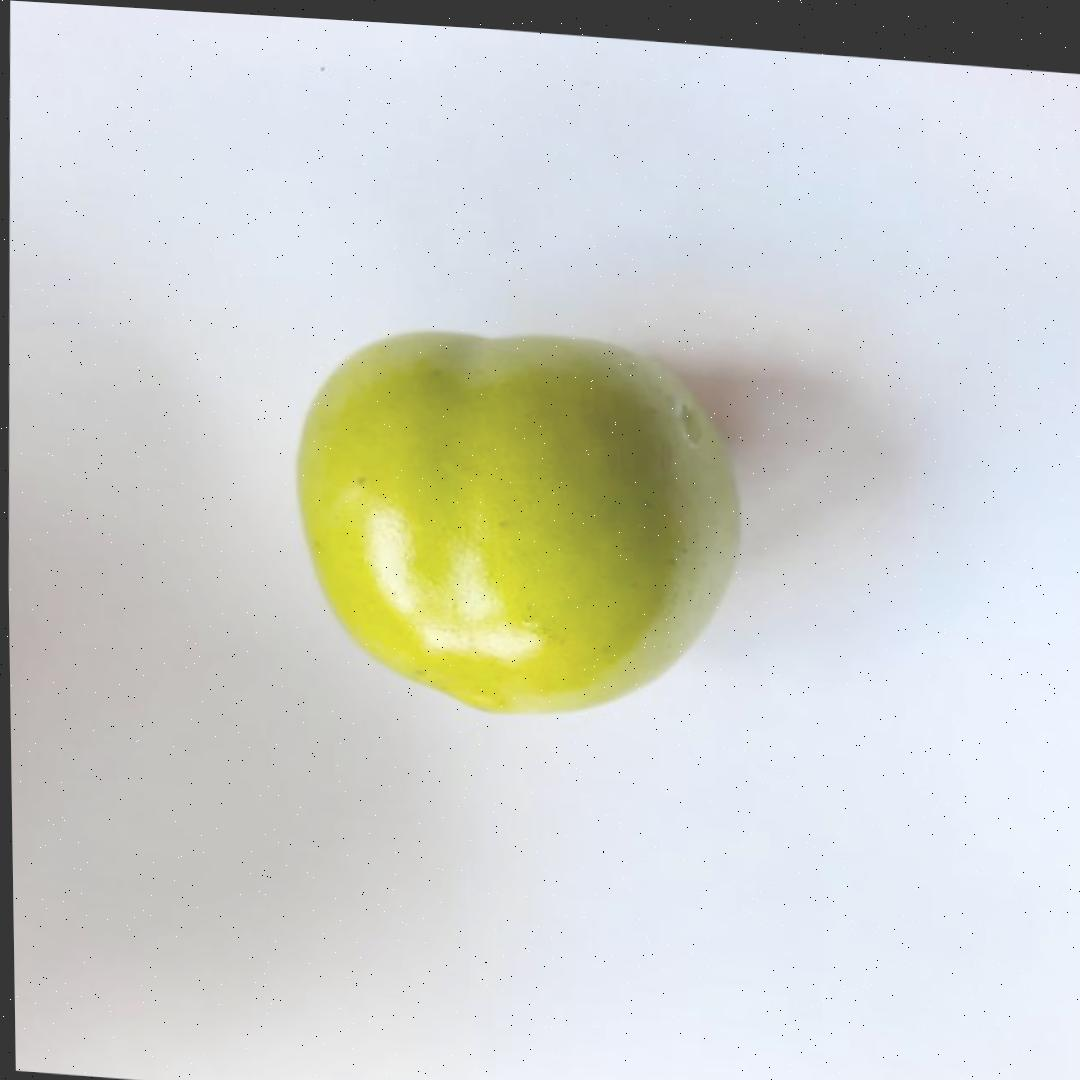mentah: (284, 310, 754, 735)
